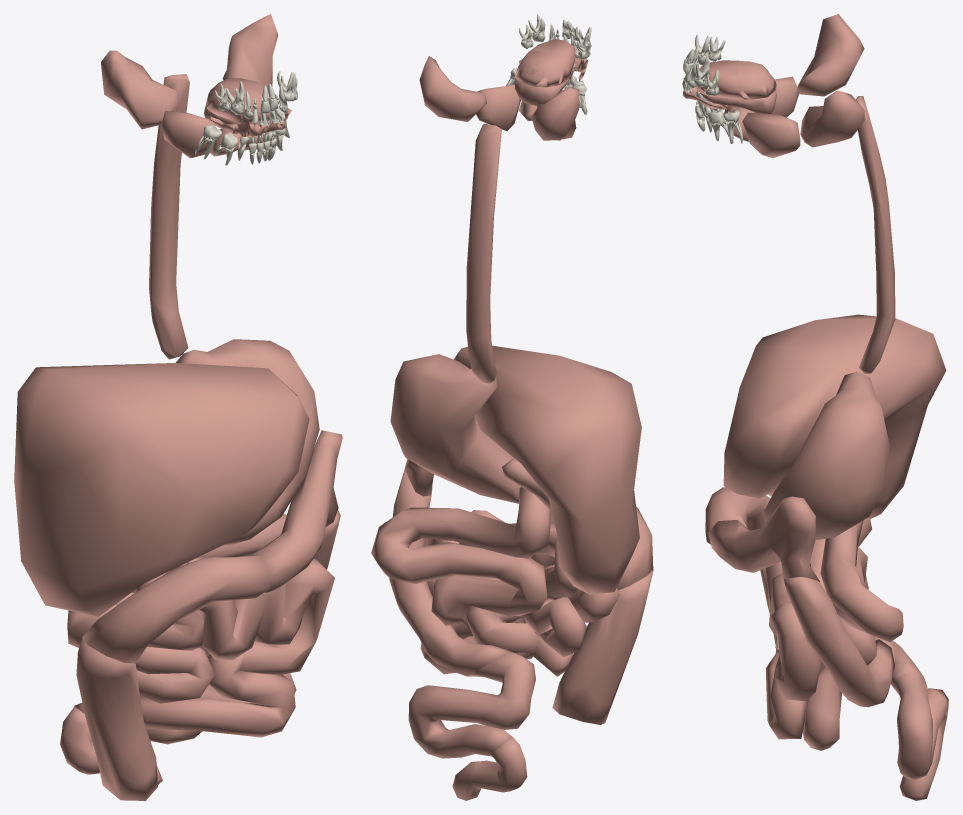
The model's file is pediatric_infant_female.digestive.LOD2.glb.
The picture shows the model from 3 angles, left to right: view 1: azimuth 30°, elevation 25°; view 2: azimuth 150°, elevation 25°; view 3: azimuth 270°, elevation 25°; orthographic projection. The views are drawn at different scales.
Visible parts, largest first — view 1: PEDIATRIC.INFANT.FEMALE.DIGESTIVE.LIVER, PEDIATRIC.INFANT.FEMALE.DIGESTIVE.SMALL_INTESTINE_WALL, PEDIATRIC.INFANT.FEMALE.DIGESTIVE.TRANSVERSE_COLON_WALL.R, PEDIATRIC.INFANT.FEMALE.DIGESTIVE.ASCENDING_COLON_WALL, PEDIATRIC.INFANT.FEMALE.DIGESTIVE.OESOPHAGUS_WALL, PEDIATRIC.INFANT.FEMALE.DIGESTIVE.TRANSVERSE_COLON_WALL.L, PEDIATRIC.INFANT.FEMALE.DIGESTIVE.SALIVARY_GLANDS.R, PEDIATRIC.INFANT.FEMALE.DIGESTIVE.STOMACH_WALL, PEDIATRIC.INFANT.FEMALE.DIGESTIVE.SALIVARY_GLANDS.L, PEDIATRIC.INFANT.FEMALE.DIGESTIVE.RECTUM_WALL, PEDIATRIC.INFANT.FEMALE.DIGESTIVE.DECIDUOUS_CEMENTUM, PEDIATRIC.INFANT.FEMALE.DIGESTIVE.ORAL_MUCOSA_MOUTH_FLOOR (+5 smaller); view 2: PEDIATRIC.INFANT.FEMALE.DIGESTIVE.LIVER, PEDIATRIC.INFANT.FEMALE.DIGESTIVE.SMALL_INTESTINE_WALL, PEDIATRIC.INFANT.FEMALE.DIGESTIVE.STOMACH_WALL, PEDIATRIC.INFANT.FEMALE.DIGESTIVE.SIGMOID_COLON_WALL, PEDIATRIC.INFANT.FEMALE.DIGESTIVE.ASCENDING_COLON_WALL, PEDIATRIC.INFANT.FEMALE.DIGESTIVE.OESOPHAGUS_WALL, PEDIATRIC.INFANT.FEMALE.DIGESTIVE.DESCENDING_COLON_WALL, PEDIATRIC.INFANT.FEMALE.DIGESTIVE.SALIVARY_GLANDS.L, PEDIATRIC.INFANT.FEMALE.DIGESTIVE.RECTUM_WALL, PEDIATRIC.INFANT.FEMALE.DIGESTIVE.ORAL_MUCOSA_MOUTH_FLOOR, PEDIATRIC.INFANT.FEMALE.DIGESTIVE.SALIVARY_GLANDS.R, PEDIATRIC.INFANT.FEMALE.DIGESTIVE.TRANSVERSE_COLON_WALL.R (+5 smaller); view 3: PEDIATRIC.INFANT.FEMALE.DIGESTIVE.LIVER, PEDIATRIC.INFANT.FEMALE.DIGESTIVE.SMALL_INTESTINE_WALL, PEDIATRIC.INFANT.FEMALE.DIGESTIVE.STOMACH_WALL, PEDIATRIC.INFANT.FEMALE.DIGESTIVE.DESCENDING_COLON_WALL, PEDIATRIC.INFANT.FEMALE.DIGESTIVE.TRANSVERSE_COLON_WALL.L, PEDIATRIC.INFANT.FEMALE.DIGESTIVE.SALIVARY_GLANDS.L, PEDIATRIC.INFANT.FEMALE.DIGESTIVE.SIGMOID_COLON_WALL, PEDIATRIC.INFANT.FEMALE.DIGESTIVE.OESOPHAGUS_WALL, PEDIATRIC.INFANT.FEMALE.DIGESTIVE.SALIVARY_GLANDS.R, PEDIATRIC.INFANT.FEMALE.DIGESTIVE.ORAL_MUCOSA_MOUTH_FLOOR, PEDIATRIC.INFANT.FEMALE.DIGESTIVE.TRANSVERSE_COLON_WALL.R, PEDIATRIC.INFANT.FEMALE.DIGESTIVE.DECIDUOUS_CEMENTUM (+4 smaller).
Part boxes in pixels (left/top/right/bottom): PEDIATRIC.INFANT.FEMALE.DIGESTIVE.LIVER: left=14, top=363, right=309, bottom=616; PEDIATRIC.INFANT.FEMALE.DIGESTIVE.SMALL_INTESTINE_WALL: left=67, top=513, right=334, bottom=737; PEDIATRIC.INFANT.FEMALE.DIGESTIVE.TRANSVERSE_COLON_WALL.R: left=82, top=555, right=270, bottom=663; PEDIATRIC.INFANT.FEMALE.DIGESTIVE.ASCENDING_COLON_WALL: left=76, top=638, right=157, bottom=800; PEDIATRIC.INFANT.FEMALE.DIGESTIVE.OESOPHAGUS_WALL: left=149, top=74, right=189, bottom=359; PEDIATRIC.INFANT.FEMALE.DIGESTIVE.TRANSVERSE_COLON_WALL.L: left=252, top=430, right=342, bottom=592; PEDIATRIC.INFANT.FEMALE.DIGESTIVE.SALIVARY_GLANDS.R: left=101, top=50, right=241, bottom=158; PEDIATRIC.INFANT.FEMALE.DIGESTIVE.STOMACH_WALL: left=176, top=339, right=319, bottom=545; PEDIATRIC.INFANT.FEMALE.DIGESTIVE.SALIVARY_GLANDS.L: left=222, top=14, right=277, bottom=150; PEDIATRIC.INFANT.FEMALE.DIGESTIVE.RECTUM_WALL: left=60, top=706, right=162, bottom=784; PEDIATRIC.INFANT.FEMALE.DIGESTIVE.DECIDUOUS_CEMENTUM: left=195, top=71, right=297, bottom=165; PEDIATRIC.INFANT.FEMALE.DIGESTIVE.ORAL_MUCOSA_MOUTH_FLOOR: left=205, top=78, right=269, bottom=124; PEDIATRIC.INFANT.FEMALE.DIGESTIVE.LIVER: left=454, top=345, right=641, bottom=594; PEDIATRIC.INFANT.FEMALE.DIGESTIVE.SMALL_INTESTINE_WALL: left=371, top=487, right=620, bottom=676; PEDIATRIC.INFANT.FEMALE.DIGESTIVE.STOMACH_WALL: left=390, top=354, right=520, bottom=503; PEDIATRIC.INFANT.FEMALE.DIGESTIVE.SIGMOID_COLON_WALL: left=408, top=650, right=535, bottom=758; PEDIATRIC.INFANT.FEMALE.DIGESTIVE.ASCENDING_COLON_WALL: left=552, top=569, right=653, bottom=724; PEDIATRIC.INFANT.FEMALE.DIGESTIVE.OESOPHAGUS_WALL: left=466, top=123, right=501, bottom=383; PEDIATRIC.INFANT.FEMALE.DIGESTIVE.DESCENDING_COLON_WALL: left=389, top=469, right=508, bottom=676; PEDIATRIC.INFANT.FEMALE.DIGESTIVE.SALIVARY_GLANDS.L: left=419, top=56, right=537, bottom=131; PEDIATRIC.INFANT.FEMALE.DIGESTIVE.RECTUM_WALL: left=452, top=737, right=527, bottom=800; PEDIATRIC.INFANT.FEMALE.DIGESTIVE.ORAL_MUCOSA_MOUTH_FLOOR: left=514, top=39, right=575, bottom=87; PEDIATRIC.INFANT.FEMALE.DIGESTIVE.SALIVARY_GLANDS.R: left=531, top=86, right=579, bottom=140; PEDIATRIC.INFANT.FEMALE.DIGESTIVE.TRANSVERSE_COLON_WALL.R: left=617, top=506, right=653, bottom=589; PEDIATRIC.INFANT.FEMALE.DIGESTIVE.LIVER: left=723, top=314, right=946, bottom=518; PEDIATRIC.INFANT.FEMALE.DIGESTIVE.SMALL_INTESTINE_WALL: left=765, top=517, right=903, bottom=750; PEDIATRIC.INFANT.FEMALE.DIGESTIVE.STOMACH_WALL: left=764, top=371, right=889, bottom=540; PEDIATRIC.INFANT.FEMALE.DIGESTIVE.DESCENDING_COLON_WALL: left=783, top=577, right=894, bottom=707; PEDIATRIC.INFANT.FEMALE.DIGESTIVE.TRANSVERSE_COLON_WALL.L: left=708, top=496, right=819, bottom=581; PEDIATRIC.INFANT.FEMALE.DIGESTIVE.SALIVARY_GLANDS.L: left=731, top=90, right=865, bottom=158; PEDIATRIC.INFANT.FEMALE.DIGESTIVE.SIGMOID_COLON_WALL: left=875, top=636, right=948, bottom=780; PEDIATRIC.INFANT.FEMALE.DIGESTIVE.OESOPHAGUS_WALL: left=856, top=96, right=895, bottom=373; PEDIATRIC.INFANT.FEMALE.DIGESTIVE.SALIVARY_GLANDS.R: left=724, top=14, right=864, bottom=117; PEDIATRIC.INFANT.FEMALE.DIGESTIVE.ORAL_MUCOSA_MOUTH_FLOOR: left=695, top=60, right=776, bottom=99; PEDIATRIC.INFANT.FEMALE.DIGESTIVE.TRANSVERSE_COLON_WALL.R: left=705, top=487, right=770, bottom=544; PEDIATRIC.INFANT.FEMALE.DIGESTIVE.DECIDUOUS_CEMENTUM: left=685, top=34, right=742, bottom=143.
Bounding box in the file's own units: 0.1366 × 0.3661 × 0.1173.
